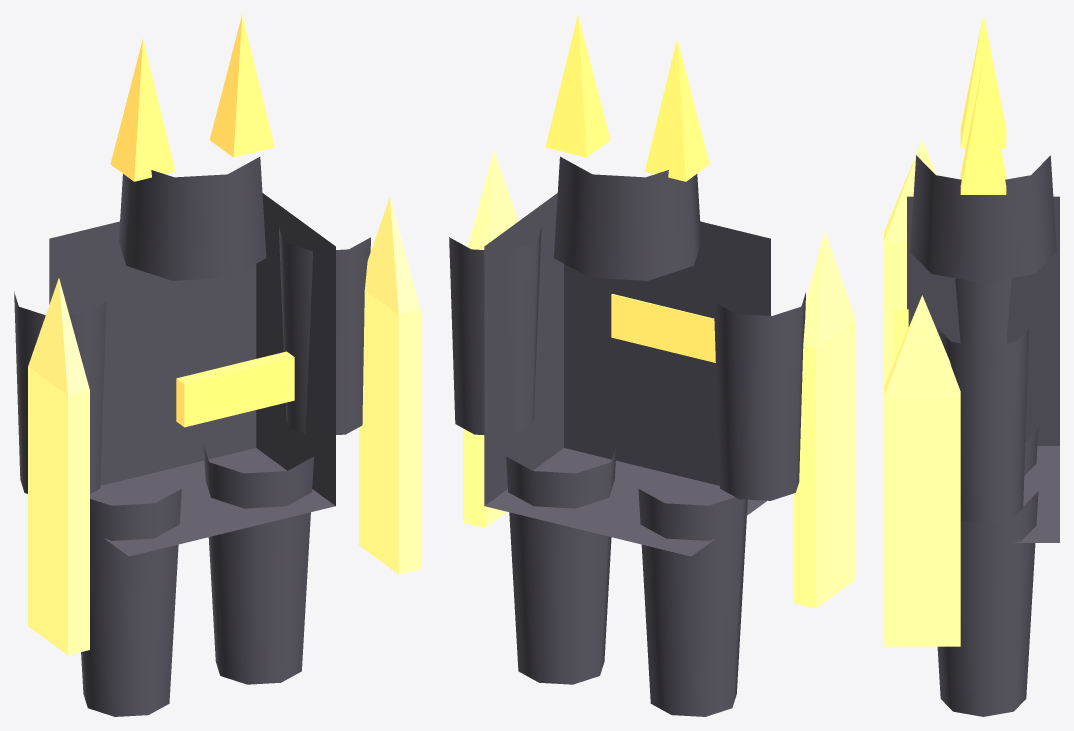
File: agni_berserker.glb
3 views of the same model, side by side, from view 1: azimuth 30°, elevation 25°; view 2: azimuth 150°, elevation 25°; view 3: azimuth 270°, elevation 25° (orthographic). The views are drawn at different scales.
Visible parts, largest first — view 1: RootNode; view 2: RootNode; view 3: RootNode.
Boxes of the visible parts, bbox=[...] form: RootNode: bbox=[14, 14, 420, 716]; RootNode: bbox=[449, 15, 855, 716]; RootNode: bbox=[884, 14, 1059, 716].
Bounding box in the file's own units: 1.28 × 2.27 × 0.575.
